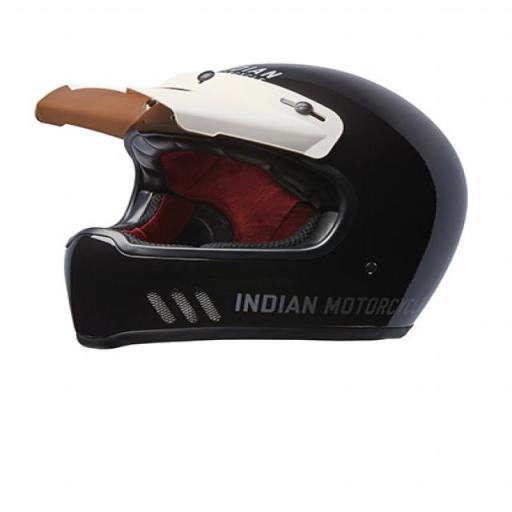Helmet: (36, 64, 466, 347)
